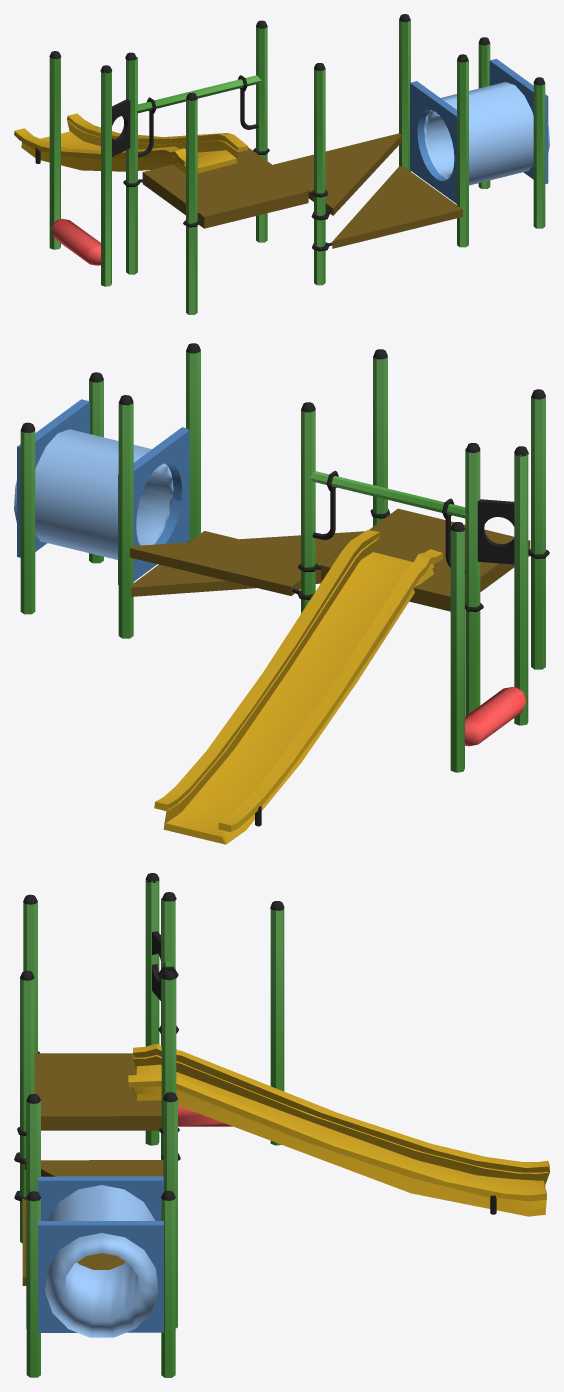
Rendered from ETC0210019.fbx.
The picture shows the model from 3 angles, top to bottom: view 1: azimuth 30°, elevation 25°; view 2: azimuth 150°, elevation 25°; view 3: azimuth 270°, elevation 25°; orthographic projection. The views are drawn at different scales.
Parts seen in each view (by area): view 1: smETC0210019; view 2: smETC0210019; view 3: smETC0210019.
Boxes of the visible parts, x1=… form: smETC0210019: x1=14, y1=14, x2=549, y2=314; smETC0210019: x1=14, y1=343, x2=549, y2=844; smETC0210019: x1=14, y1=873, x2=549, y2=1377.
Bounding box in the file's own units: 740 × 378 × 677.
1 material, 1 textured.
